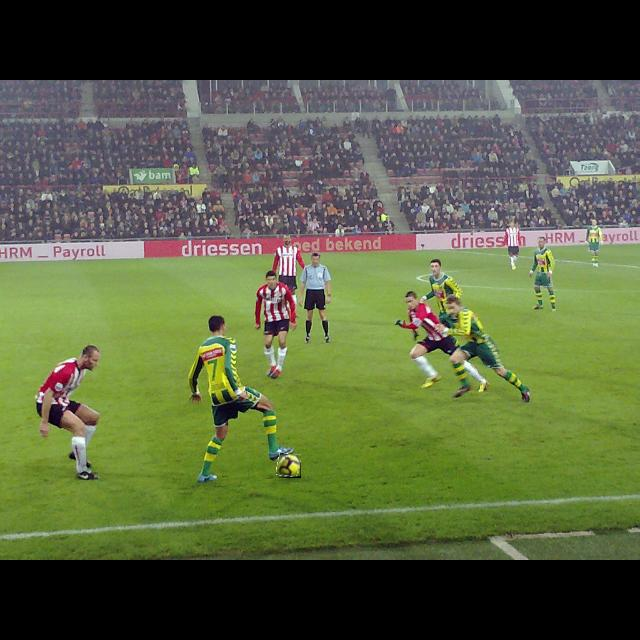Football: (277, 454, 301, 478)
